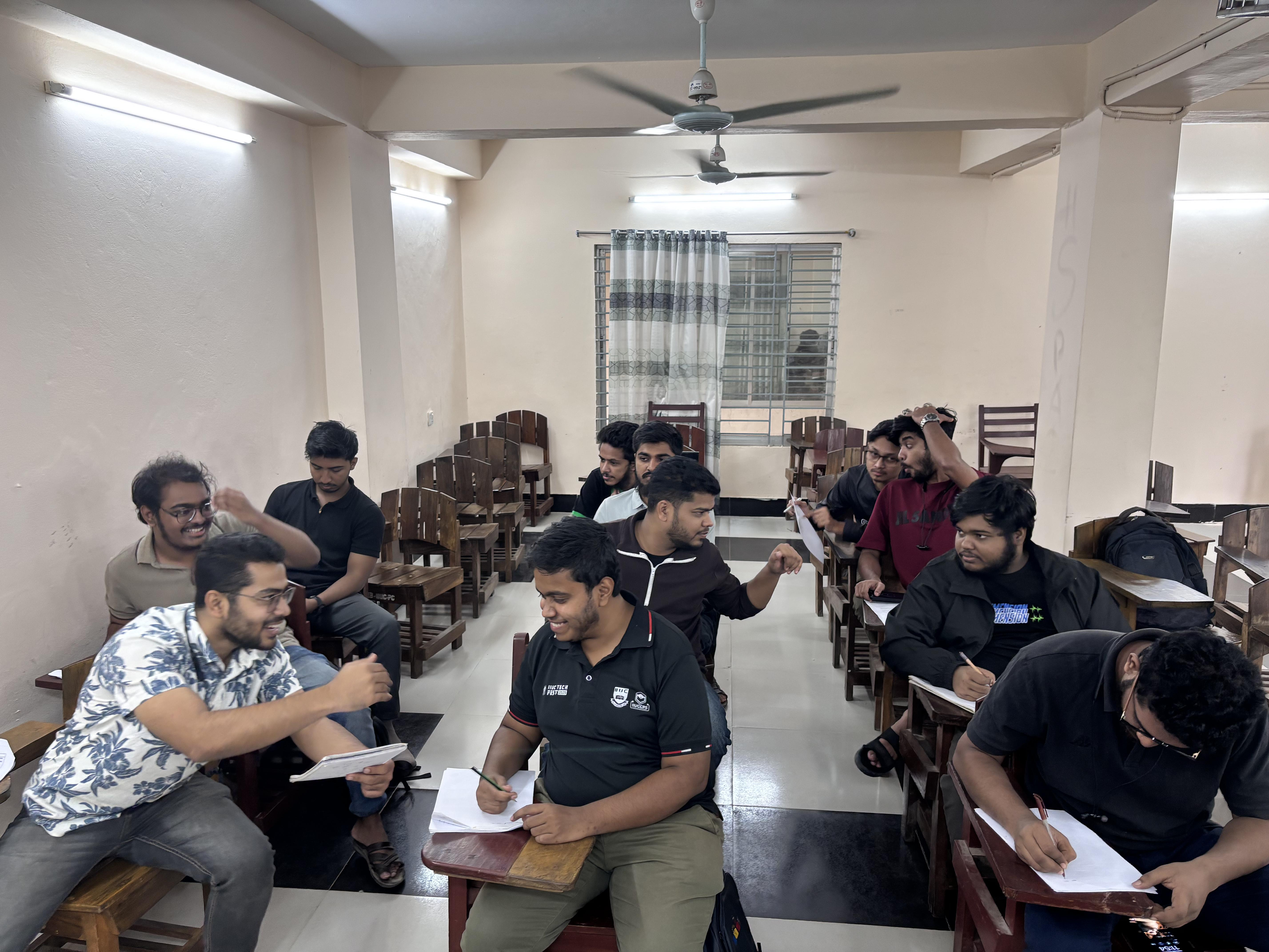copying: (74, 529, 423, 877), (574, 417, 634, 500)
hidden_communication: (806, 392, 964, 576)
no_cheating: (952, 587, 1269, 951), (267, 414, 395, 608), (625, 427, 682, 498)
side_talking: (442, 521, 694, 904), (875, 480, 1077, 729), (629, 460, 812, 649), (123, 434, 229, 608)
